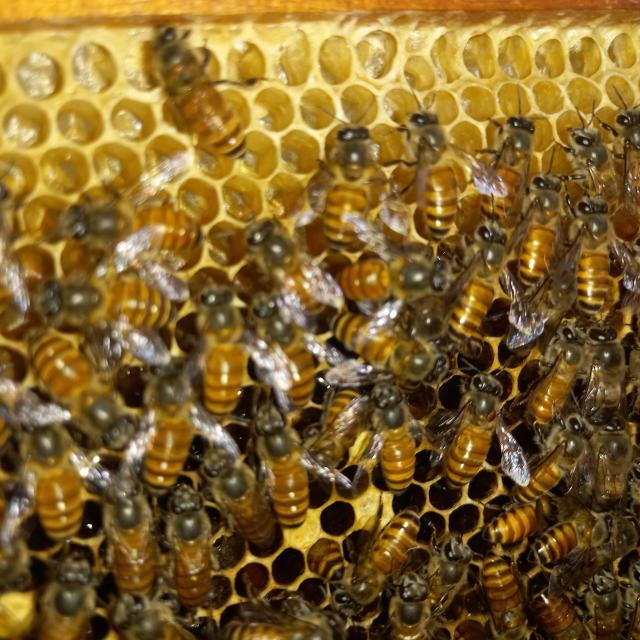honeybee: (160, 502, 271, 640), (156, 40, 272, 166), (310, 233, 471, 317), (47, 193, 197, 263), (21, 398, 118, 505), (261, 422, 355, 532), (342, 364, 417, 492), (139, 355, 208, 492), (550, 107, 631, 214), (441, 376, 513, 496), (40, 261, 180, 321), (323, 115, 387, 244), (231, 445, 304, 558), (192, 282, 252, 408), (539, 486, 627, 571), (413, 101, 468, 233), (594, 299, 640, 444), (524, 408, 610, 484), (231, 227, 323, 297), (509, 156, 556, 287), (574, 188, 620, 319), (64, 528, 114, 640), (312, 537, 449, 577), (30, 329, 111, 394), (477, 511, 513, 640), (434, 522, 473, 639), (327, 314, 413, 366), (498, 464, 556, 541), (577, 564, 640, 633), (229, 592, 319, 640), (488, 77, 524, 193), (372, 571, 428, 640), (112, 492, 144, 597), (548, 293, 571, 415), (541, 564, 573, 640), (458, 197, 472, 344)
